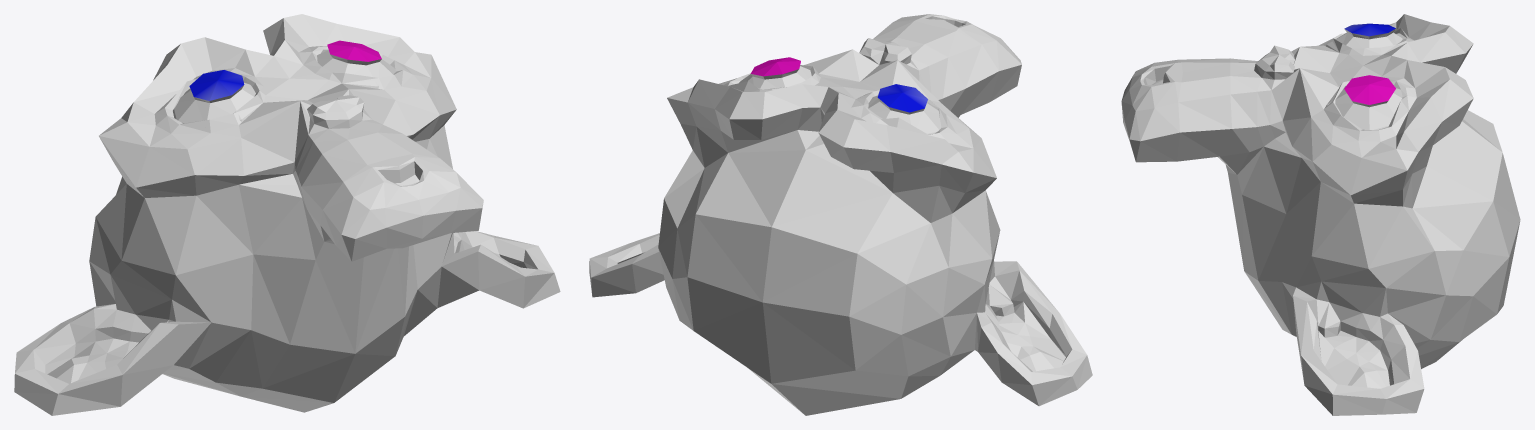
3 renders of one model, left to right at view 1: azimuth 30°, elevation 25°; view 2: azimuth 150°, elevation 25°; view 3: azimuth 270°, elevation 25°, orthographic. The views are drawn at different scales.
Parts seen in each view (by area): view 1: Suzanne; view 2: Suzanne; view 3: Suzanne.
Boxes of the visible parts, x1,y1,x2,y2 form: Suzanne: [14, 14, 560, 415]; Suzanne: [589, 14, 1092, 415]; Suzanne: [1121, 14, 1520, 415].
Bounding box in the file's own units: 273 × 170 × 197.
